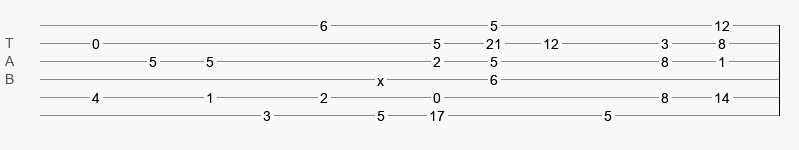0: (92, 36, 100, 46), (433, 90, 441, 100)
1: (206, 90, 214, 100), (718, 54, 726, 64)
12: (543, 36, 559, 46), (714, 18, 730, 28)
14: (714, 90, 730, 100)
17: (429, 108, 445, 118)
2: (320, 90, 328, 100), (433, 54, 441, 64)
21: (486, 36, 502, 46)
3: (263, 108, 271, 118), (661, 36, 669, 46)
4: (92, 90, 100, 100)
5: (149, 54, 157, 64), (206, 54, 214, 64), (377, 108, 385, 118), (433, 36, 441, 46), (490, 18, 498, 28), (490, 54, 498, 64), (604, 108, 612, 118)
6: (320, 18, 328, 28), (490, 72, 498, 82)
8: (661, 90, 669, 100), (661, 54, 669, 64), (718, 36, 726, 46)
x: (377, 73, 384, 81)
